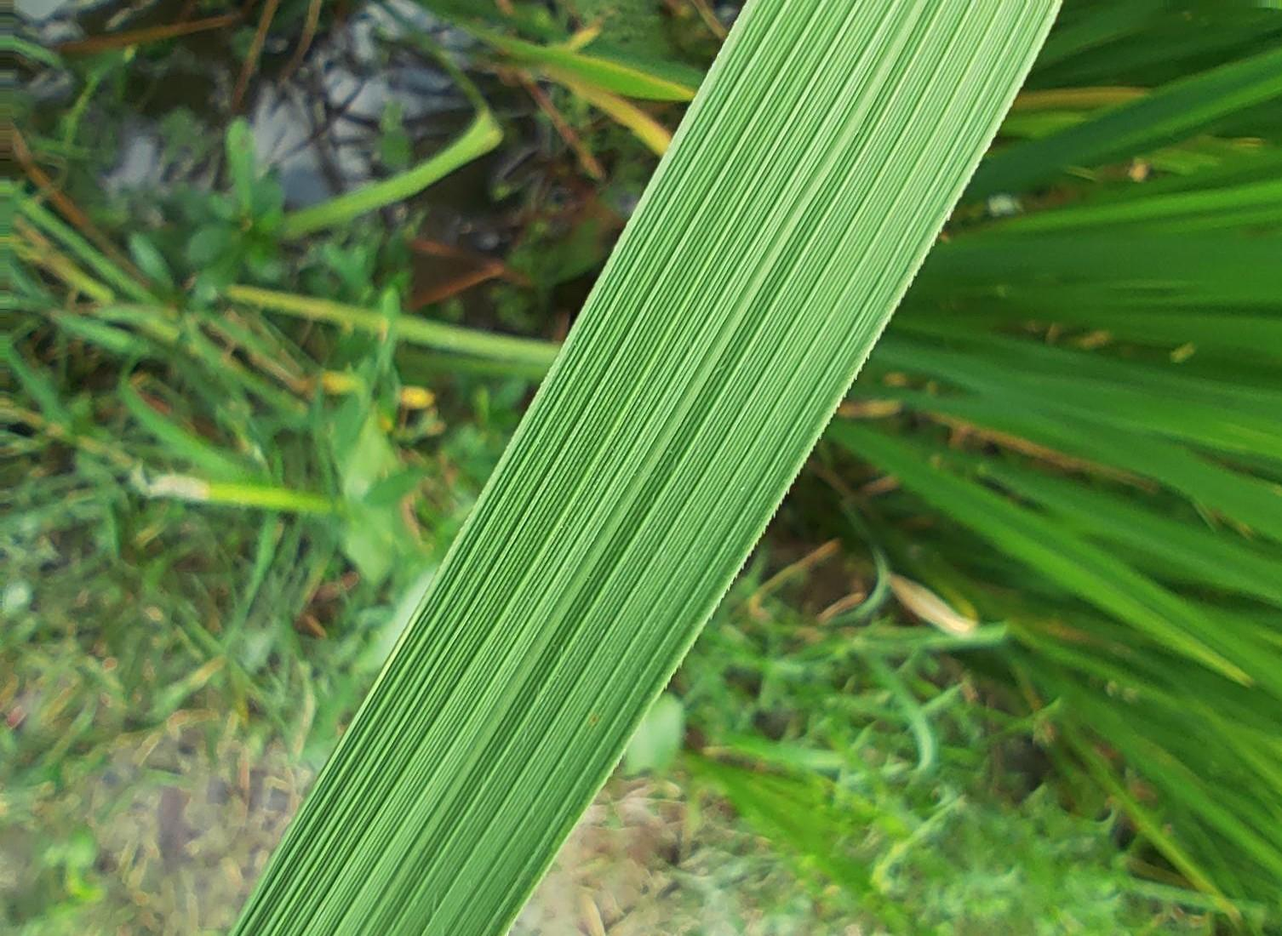Healthy: (233, 0, 1059, 935)
